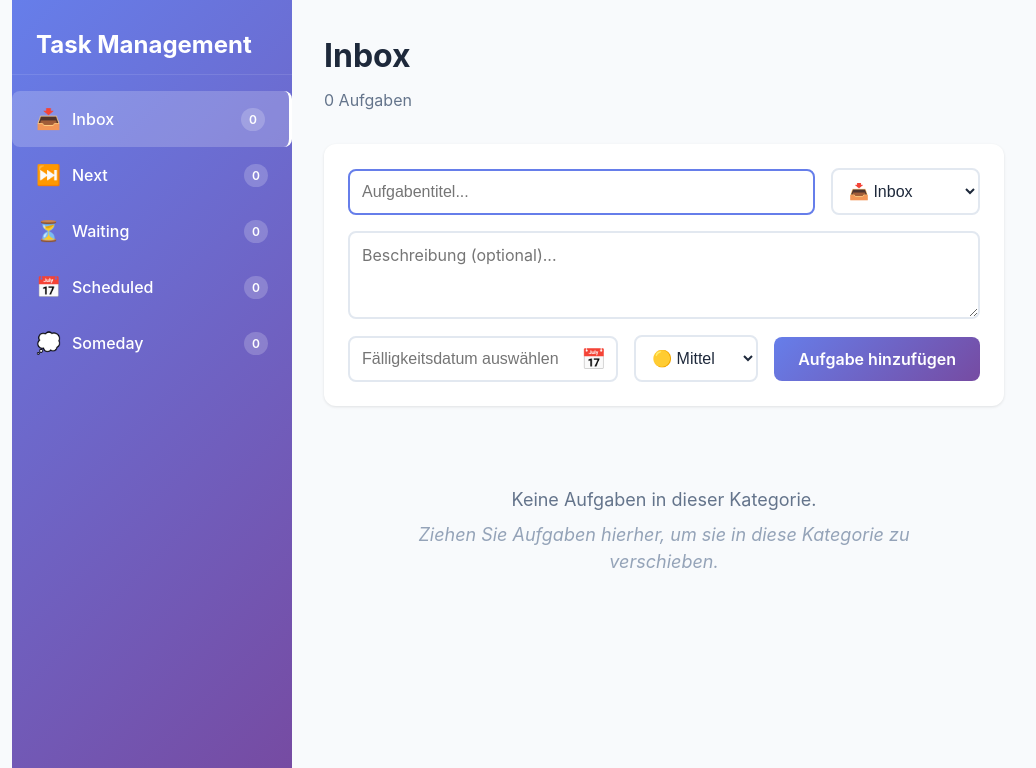
Test: App › Accessibility › should be keyboard navigable
Type keys "Test Task"
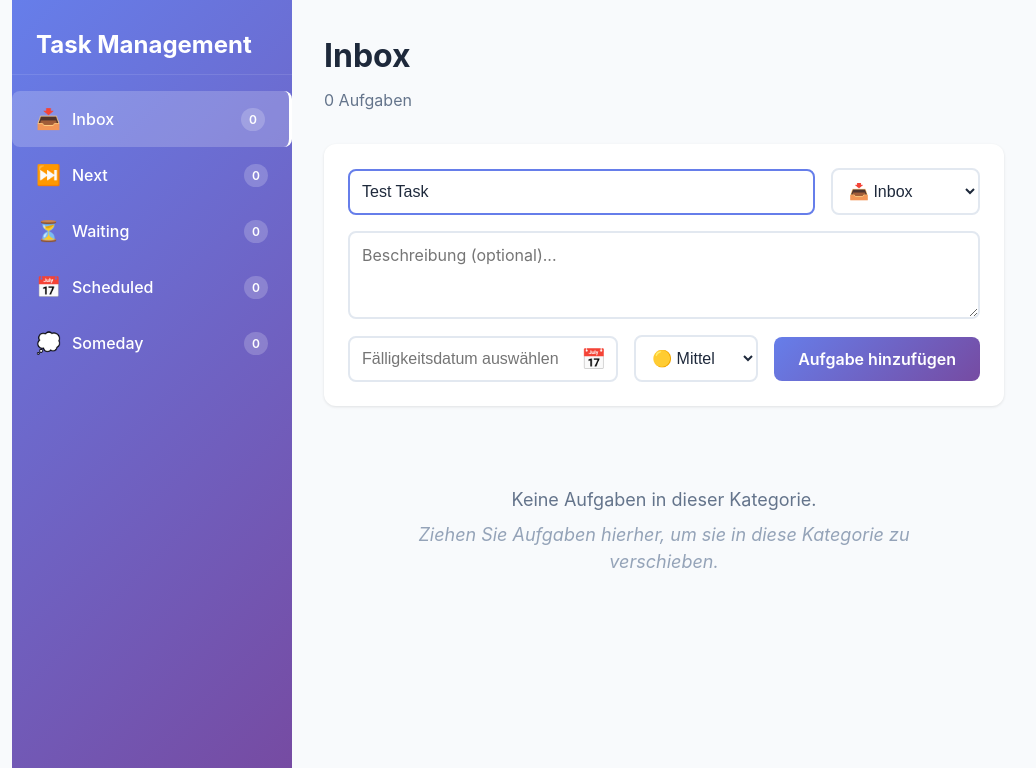
Press Tab
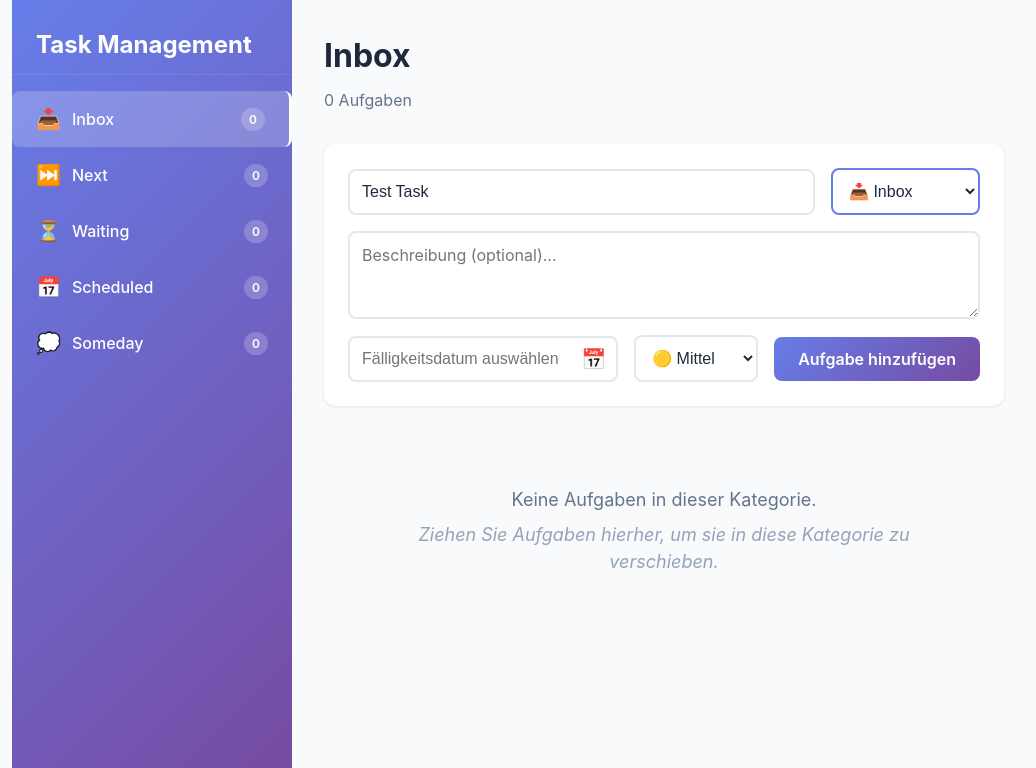
Click the button "Aufgabe hinzufügen" at (877, 358), box [774,336,980,380]
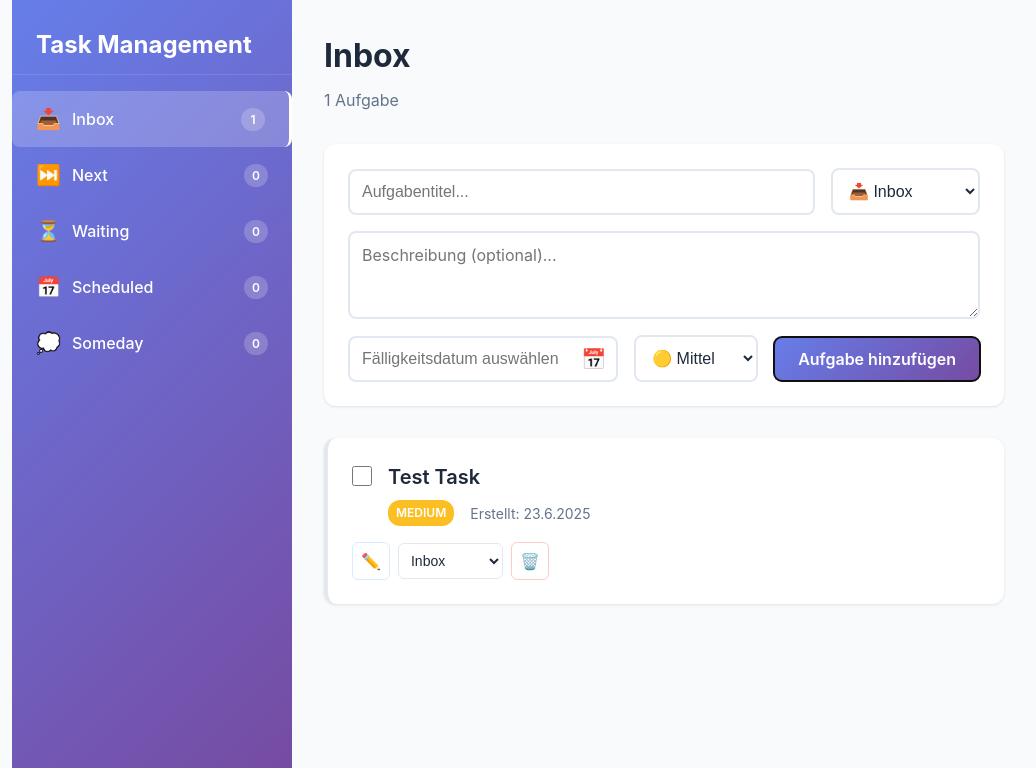
Result: the heading "Test Task" is shown at [388,465,480,489]
